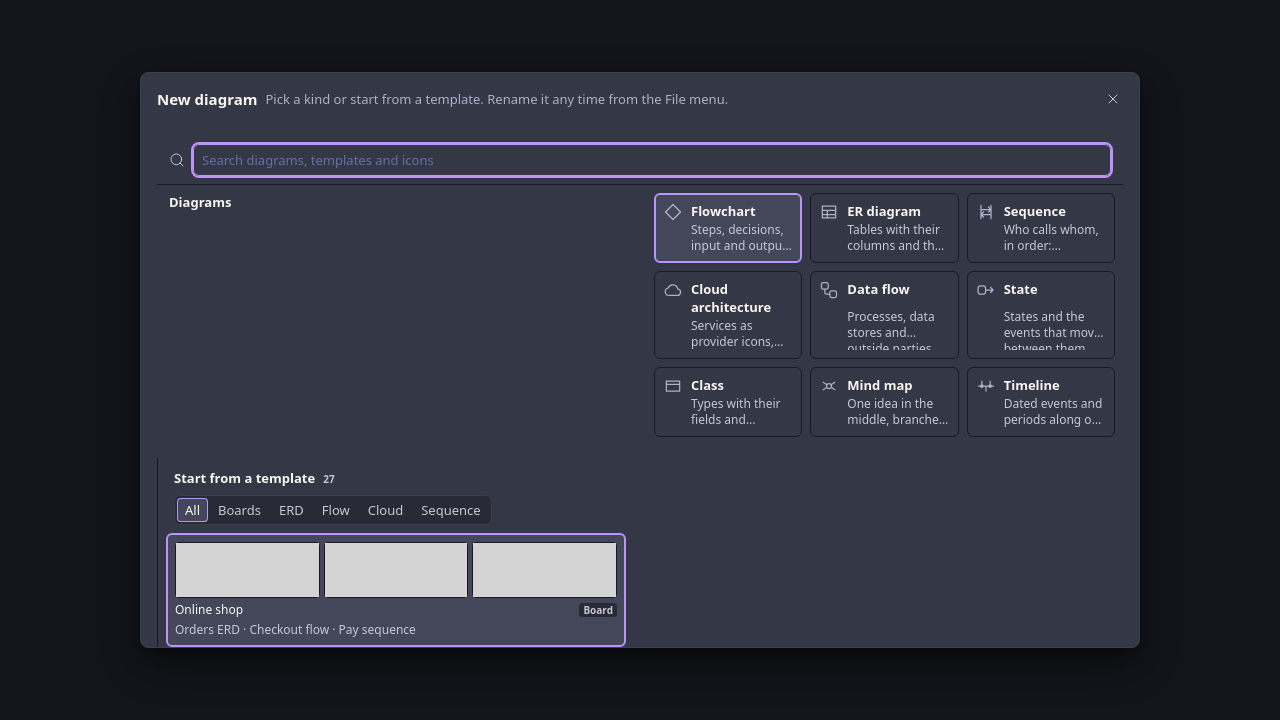
a_second_clash_shows_the_message_in_the_dialog
Click the option "State".
click(1041, 315)  # box x1=967 y1=271 x2=1115 y2=359
(page scrolled)
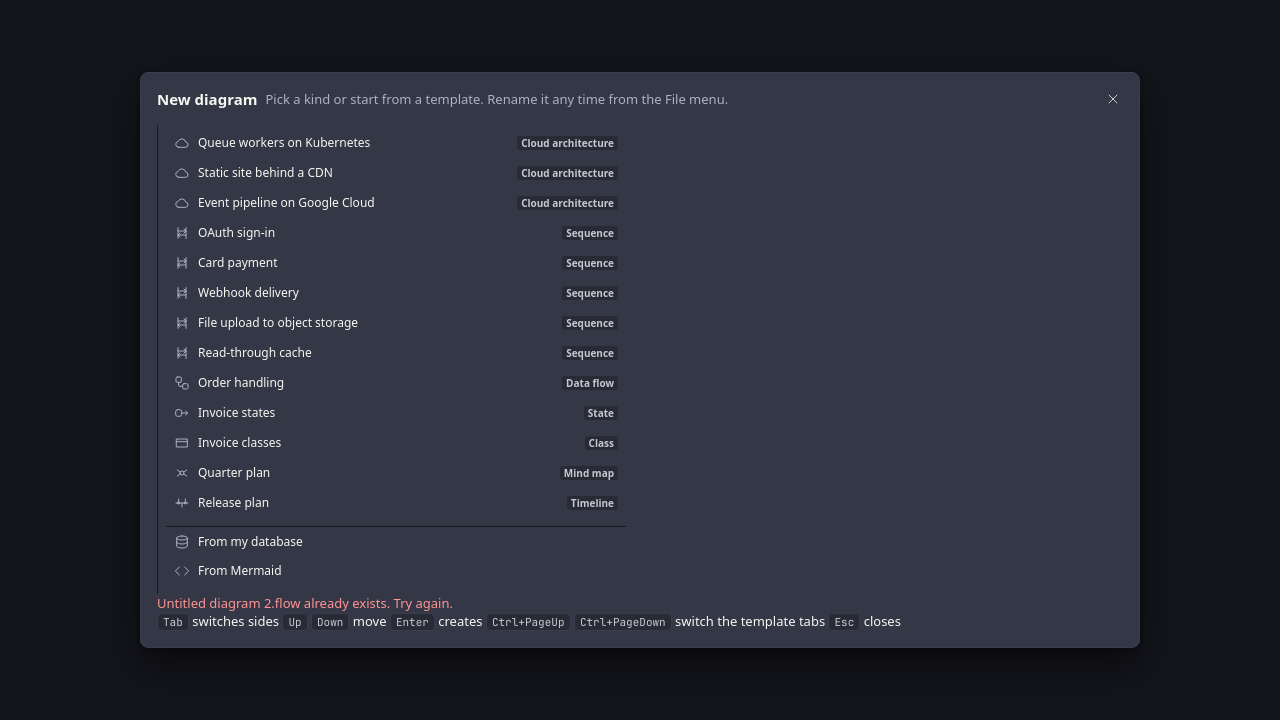
Expected: the message shows "already exists", x1=157 y1=594 x2=453 y2=612
